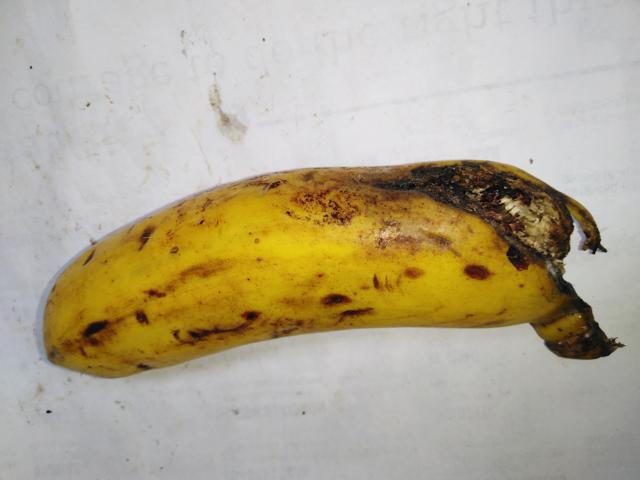ripe: (25, 135, 605, 392)
rotten: (359, 144, 623, 334)
